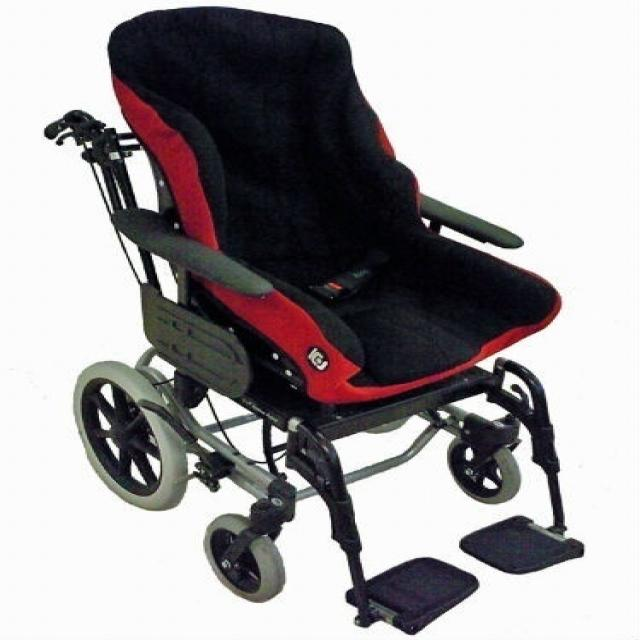wheelchair: (37, 3, 601, 640)
